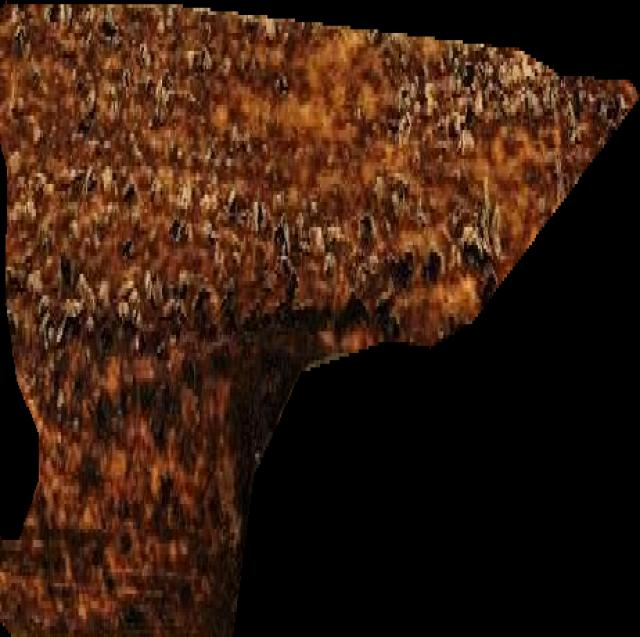Pitting Corrosion: (0, 1, 640, 637)
